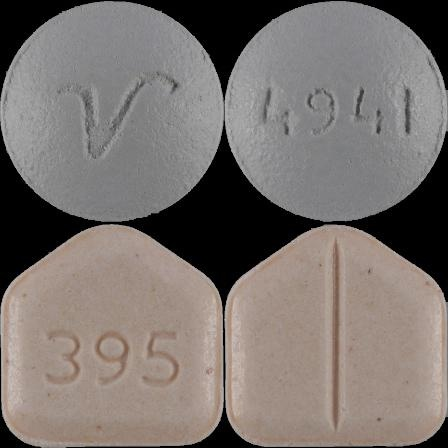61786-416: (0, 0, 224, 224)
